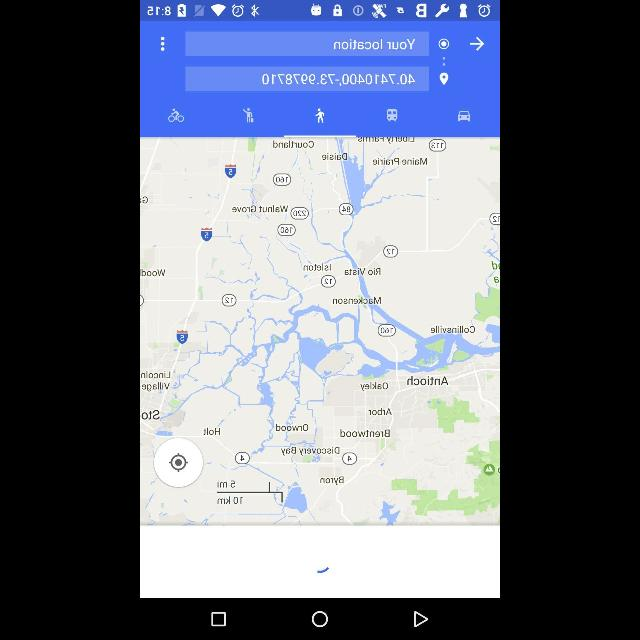icon: (167, 453, 190, 473), (312, 610, 328, 628), (414, 610, 428, 628), (470, 36, 484, 52), (437, 72, 451, 86), (212, 612, 226, 626), (168, 110, 184, 122), (242, 108, 254, 122), (387, 108, 398, 122), (438, 38, 450, 50), (458, 110, 470, 122), (315, 564, 329, 574), (316, 108, 324, 122), (160, 36, 166, 52), (442, 57, 446, 67)
input: (186, 32, 430, 56), (185, 68, 428, 92)
map: (140, 138, 500, 524)
multitab: (140, 92, 500, 136)
panel: (140, 598, 500, 640)
text: (262, 74, 414, 86), (334, 39, 414, 50)
toolbar: (141, 21, 499, 93)
uppertaskbar: (140, 0, 500, 20)
